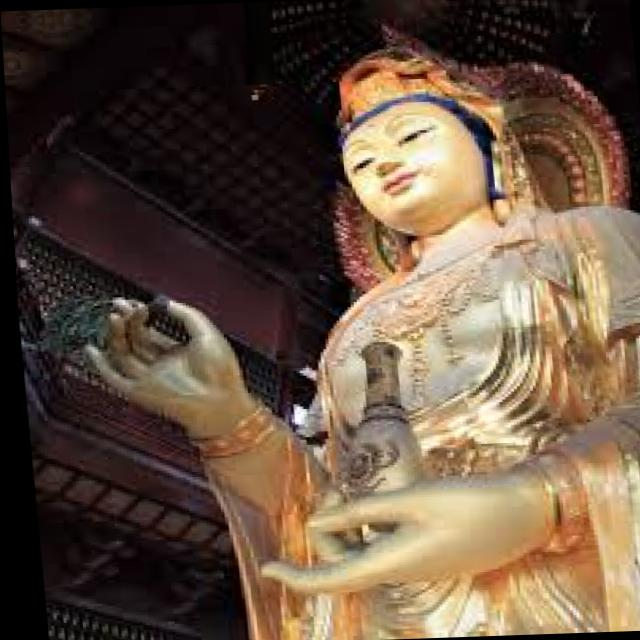Guan Yin: (296, 47, 560, 410)
